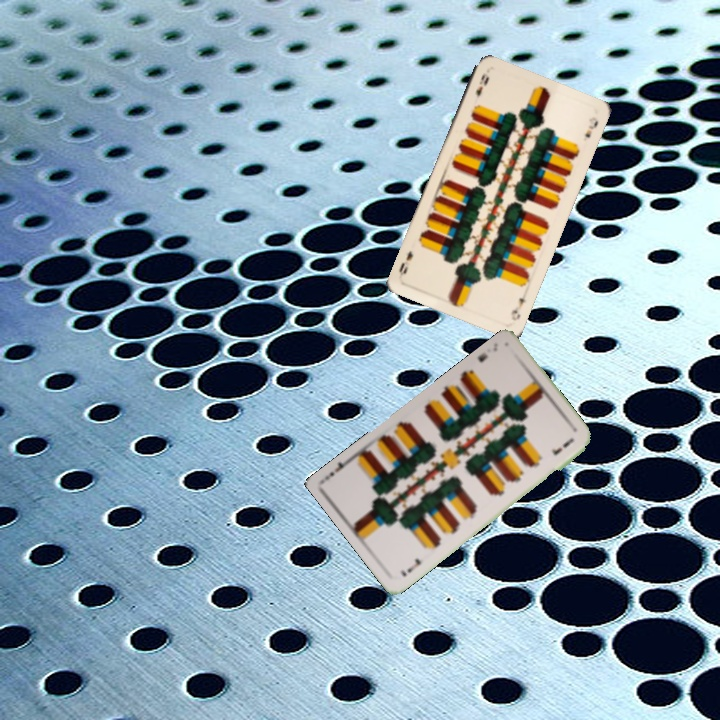E7: (474, 339, 501, 365), (396, 554, 424, 579)
E9: (472, 69, 491, 100), (507, 294, 527, 323)
